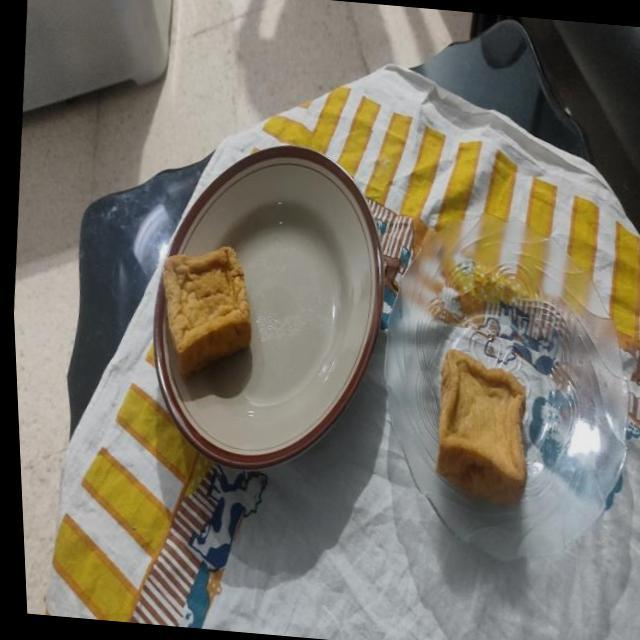tahu_goreng: (436, 349, 526, 505), (162, 247, 250, 376)
